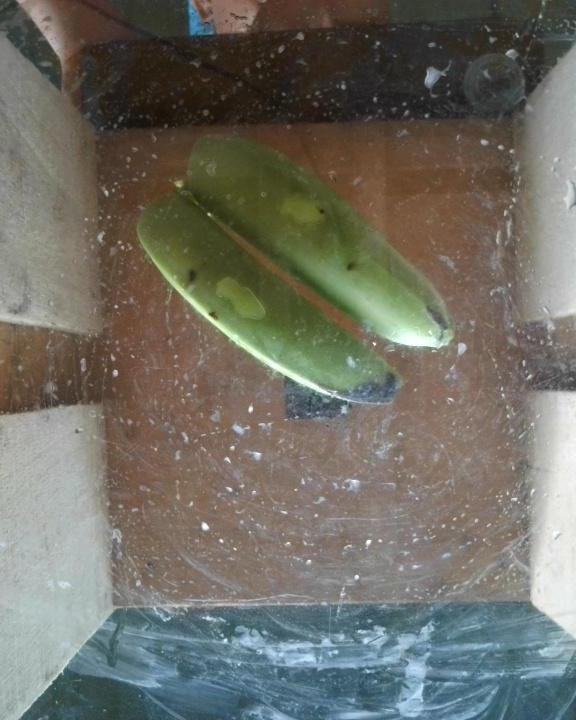CLASS B: (136, 125, 462, 411)
Class A: (322, 369, 407, 408), (417, 298, 450, 331), (336, 253, 369, 283), (179, 261, 208, 292), (201, 304, 232, 327)
